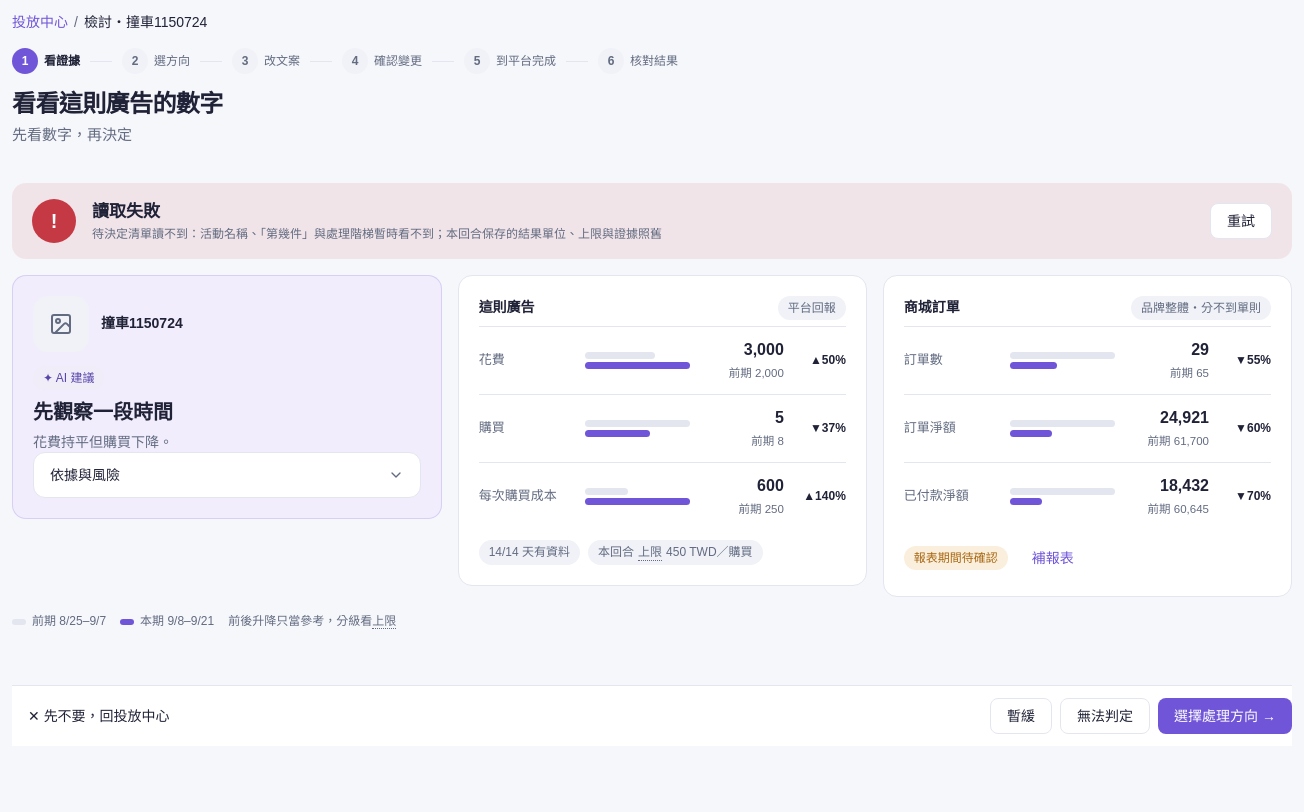
ReviewEvidencePage（F29-I10）佇列讀取失敗與出口 › 佇列讀取失敗：只多一塊讀取失敗，這一步照舊；重試重讀佇列後補回「第幾件」
This screenshot has width=1304, height=812.
Check: the text "待決定清單讀不到：活動名稱、「第幾件」與處理階梯暫時看不到；本回合保存的結果單位、上限與證據照舊" is shown, box [92,227,662,241]
Check: the heading "看看這則廣告的數字" is shown, box [12,88,223,120]
Click the button "重試" at (1241, 220), box [1210,202,1272,238]
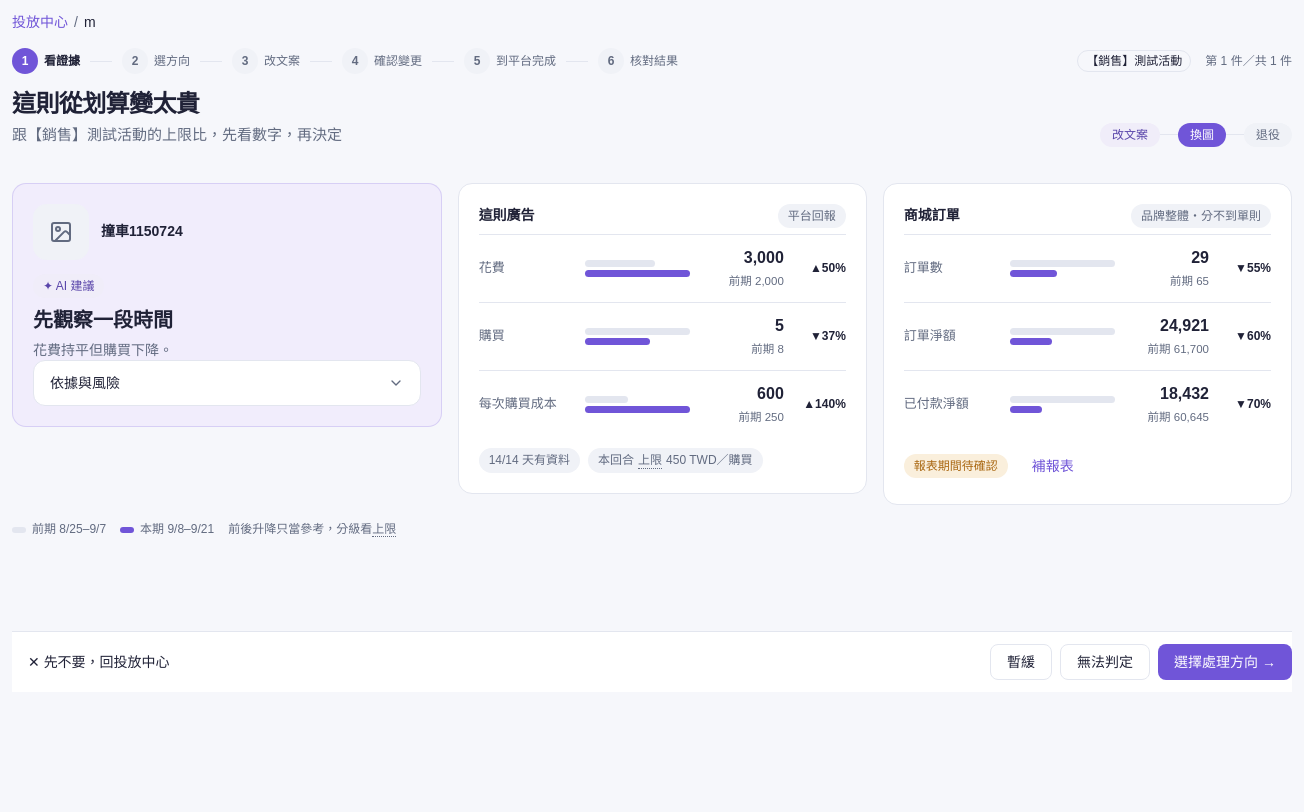
Check: the text "第 1 件／共 1 件" is shown, box [1205,53,1292,69]
Check: the text "待決定清單讀不到" is gone
